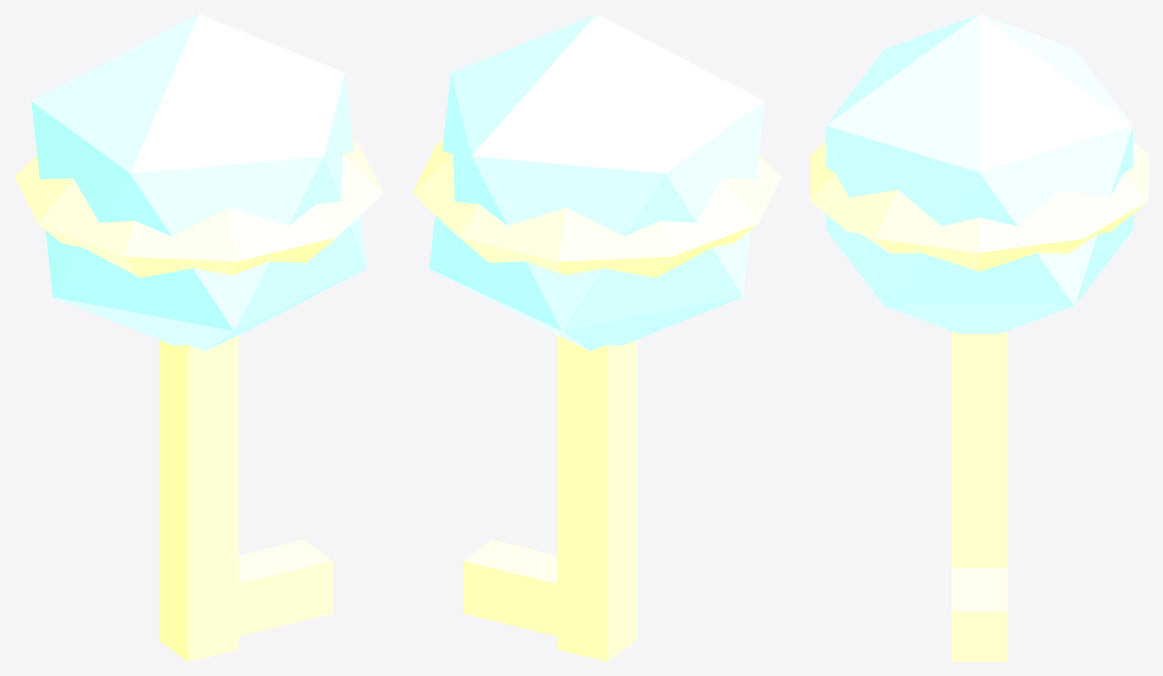
File: magnetic_key.glb
The picture shows the model from 3 angles, left to right: view 1: azimuth 30°, elevation 25°; view 2: azimuth 150°, elevation 25°; view 3: azimuth 270°, elevation 25°; orthographic projection. The views are drawn at different scales.
Visible parts, largest first — view 1: magnetic_key; view 2: magnetic_key; view 3: magnetic_key.
Part boxes in pixels (x1,y1,x2,y2): magnetic_key: [14, 14, 383, 661]; magnetic_key: [412, 14, 781, 661]; magnetic_key: [810, 14, 1148, 661].
Bounding box in the file's own units: 0.256 × 0.48 × 0.2435.
